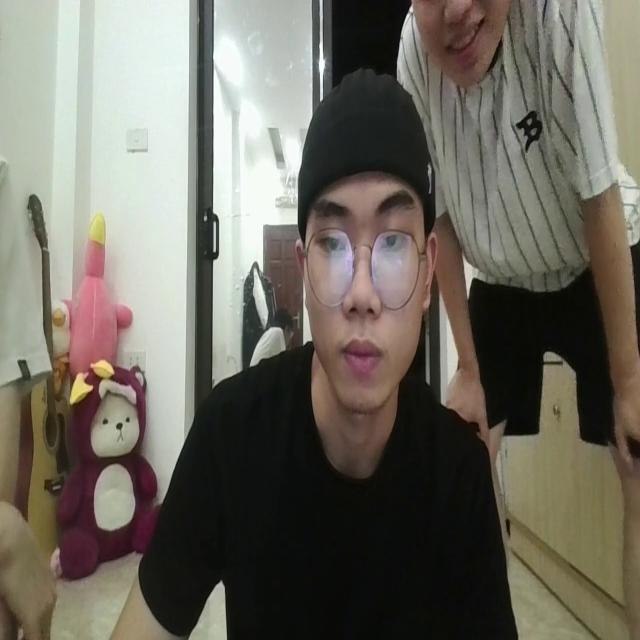extra_person: (400, 0, 640, 530)
student: (127, 63, 511, 640)
